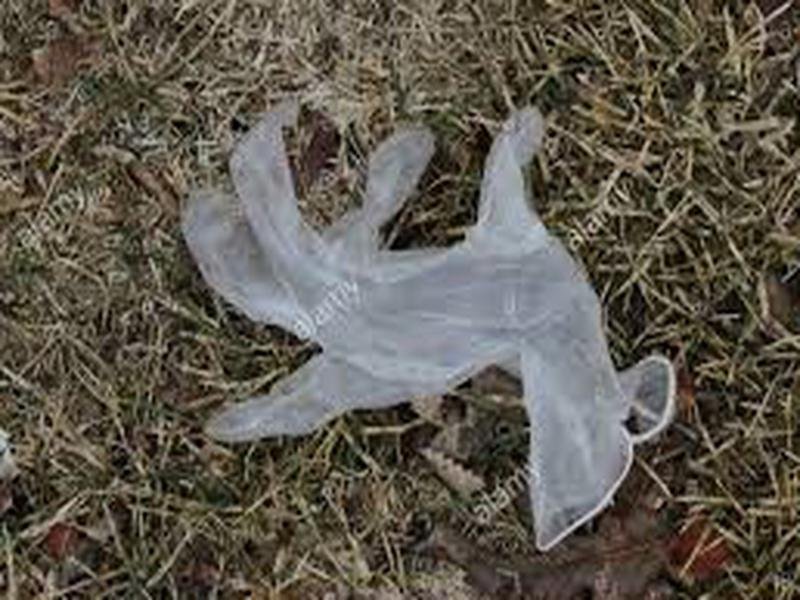gloves: (158, 92, 686, 561)
